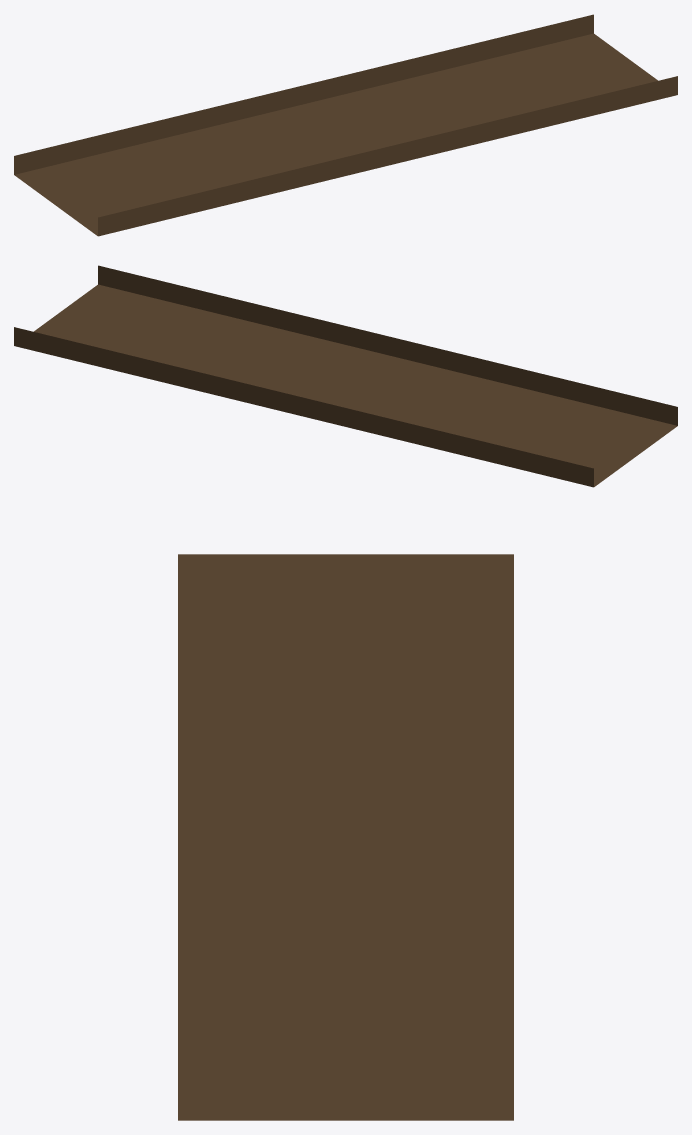
The model's file is Itr_Couch_Outside_Bottom_04.FBX.
The picture shows the model from 3 angles, top to bottom: view 1: azimuth 30°, elevation 25°; view 2: azimuth 150°, elevation 25°; view 3: azimuth 270°, elevation 25°; orthographic projection. The views are drawn at different scales.
Parts seen in each view (by area): view 1: Itr_Couch_Outside_Bottom_04; view 2: Itr_Couch_Outside_Bottom_04; view 3: Itr_Couch_Outside_Bottom_04.
Boxes of the visible parts, x1=… form: Itr_Couch_Outside_Bottom_04: x1=14, y1=14, x2=677, y2=236; Itr_Couch_Outside_Bottom_04: x1=14, y1=265, x2=677, y2=487; Itr_Couch_Outside_Bottom_04: x1=178, y1=554, x2=513, y2=1120.
Bounding box in the file's own units: 57.26 × 1.79 × 14.38.
